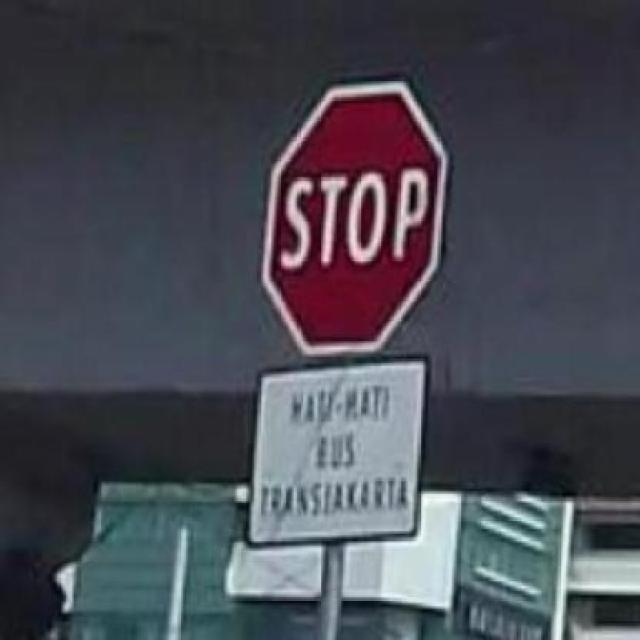stop: (263, 72, 444, 357)
